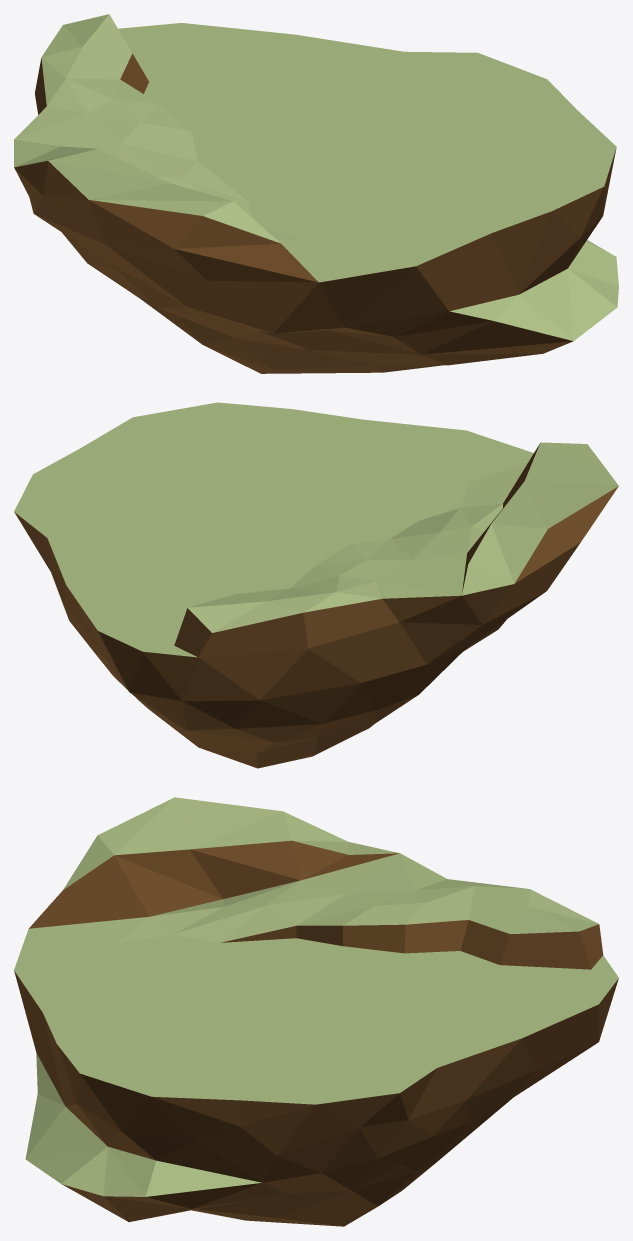
Rendered from Island uv unwrapped.fbx.
The picture shows the model from 3 angles, top to bottom: view 1: azimuth 30°, elevation 25°; view 2: azimuth 150°, elevation 25°; view 3: azimuth 270°, elevation 25°; orthographic projection. The views are drawn at different scales.
Parts seen in each view (by area): view 1: Icosphere.001; view 2: Icosphere.001; view 3: Icosphere.001.
Part boxes in pixels (<box>): Icosphere.001: <box>14,14,618,373</box>; Icosphere.001: <box>14,402,618,768</box>; Icosphere.001: <box>14,797,618,1226</box>.
Bounding box in the file's own units: 2782 × 2865 × 1478.
